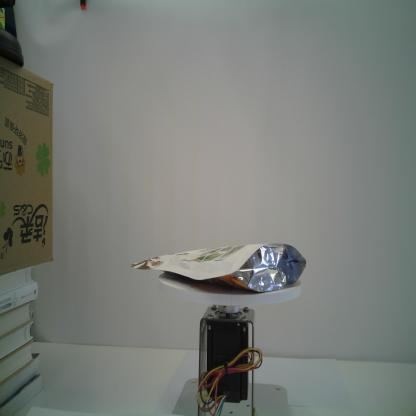Dried Fruit: (130, 242, 307, 293)
